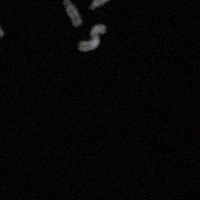chromosome: (77, 24, 106, 51), (62, 0, 81, 26), (89, 0, 118, 10), (0, 0, 4, 39)
